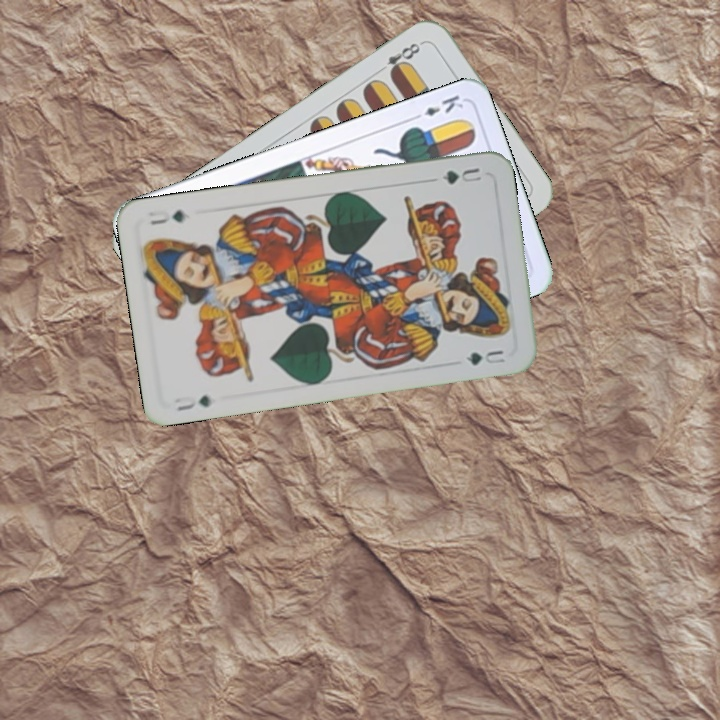E8: (373, 37, 426, 79)
EK: (407, 91, 466, 123)
GU: (428, 163, 484, 187), (173, 391, 215, 413)
